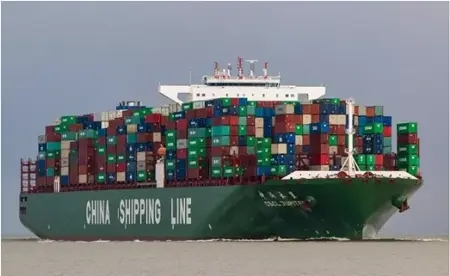Cargoship: (13, 54, 425, 240)
